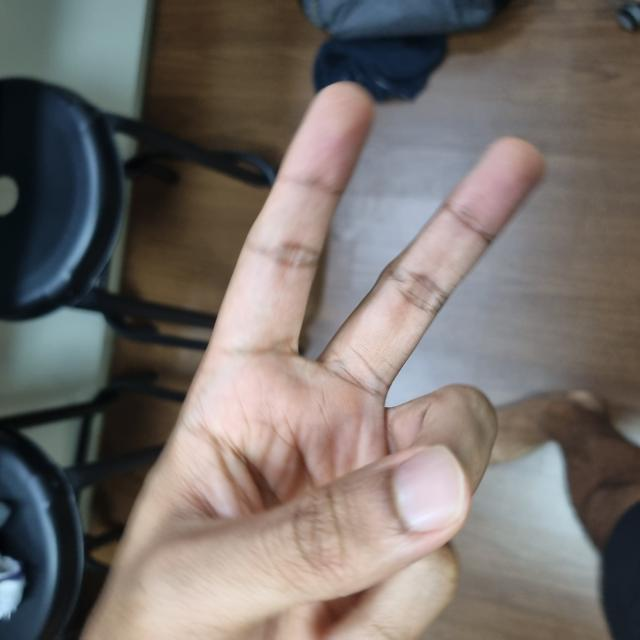Scissors: (0, 67, 543, 535)
